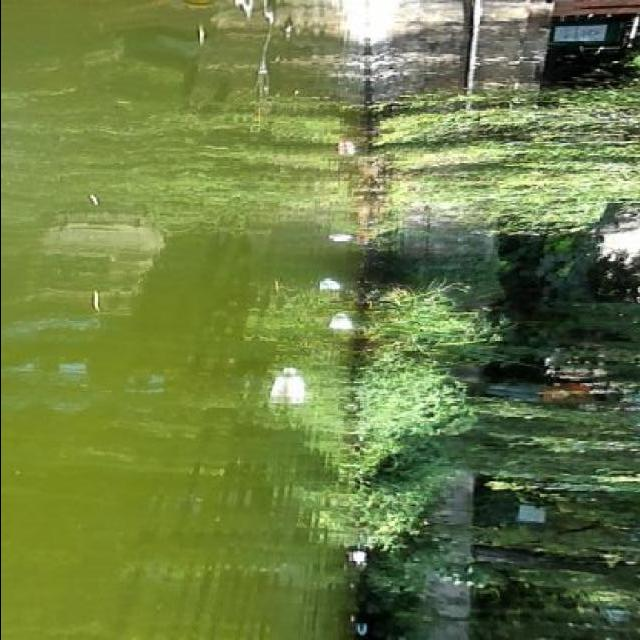Waste: (268, 358, 310, 416), (330, 308, 356, 342), (314, 270, 342, 298), (321, 228, 362, 246)
